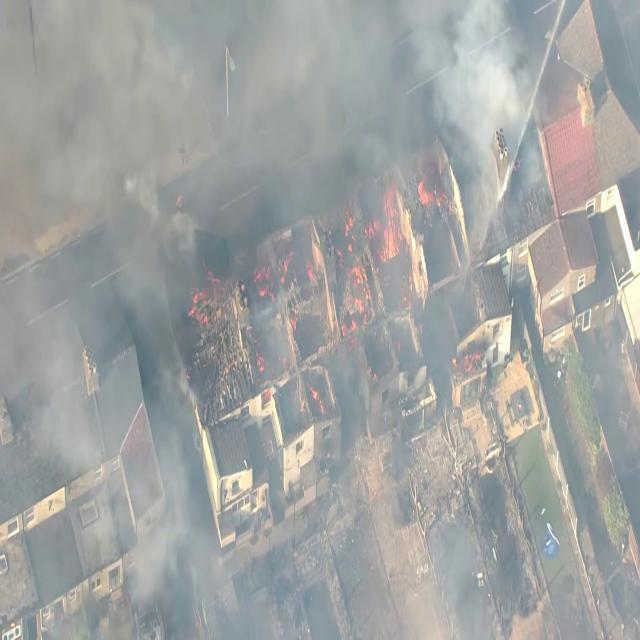Fire: (366, 192, 395, 265)
Smoke: (430, 8, 512, 150)
